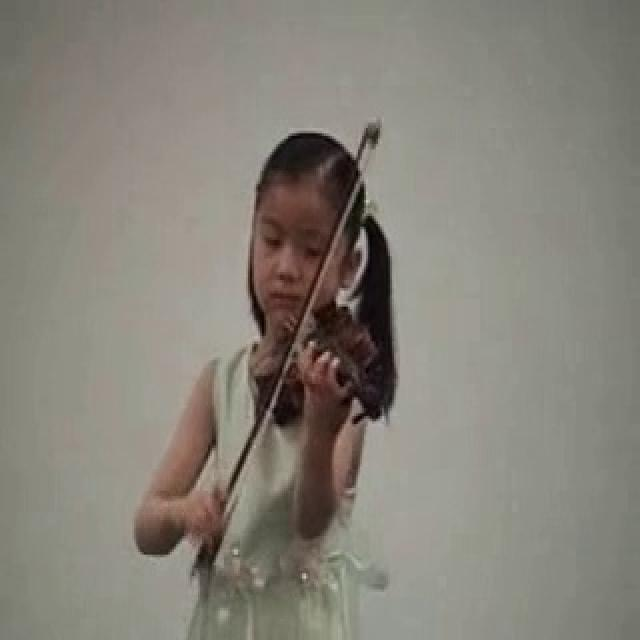Violin: (237, 288, 416, 429)
